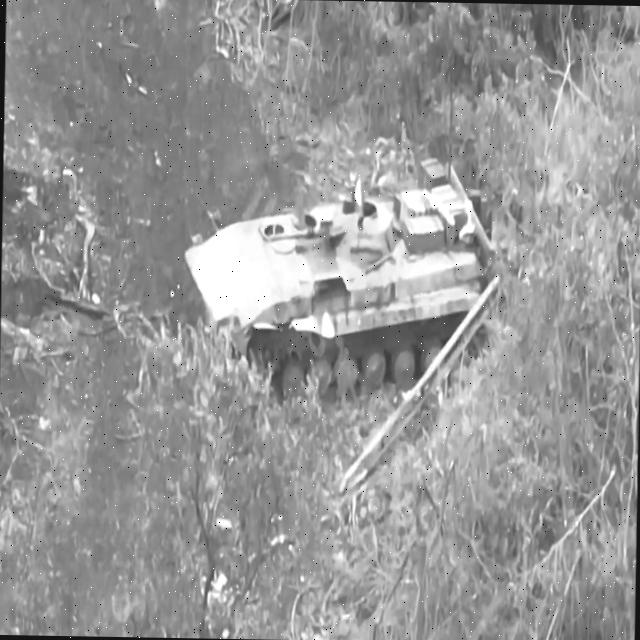AIFV: (182, 153, 502, 421)
